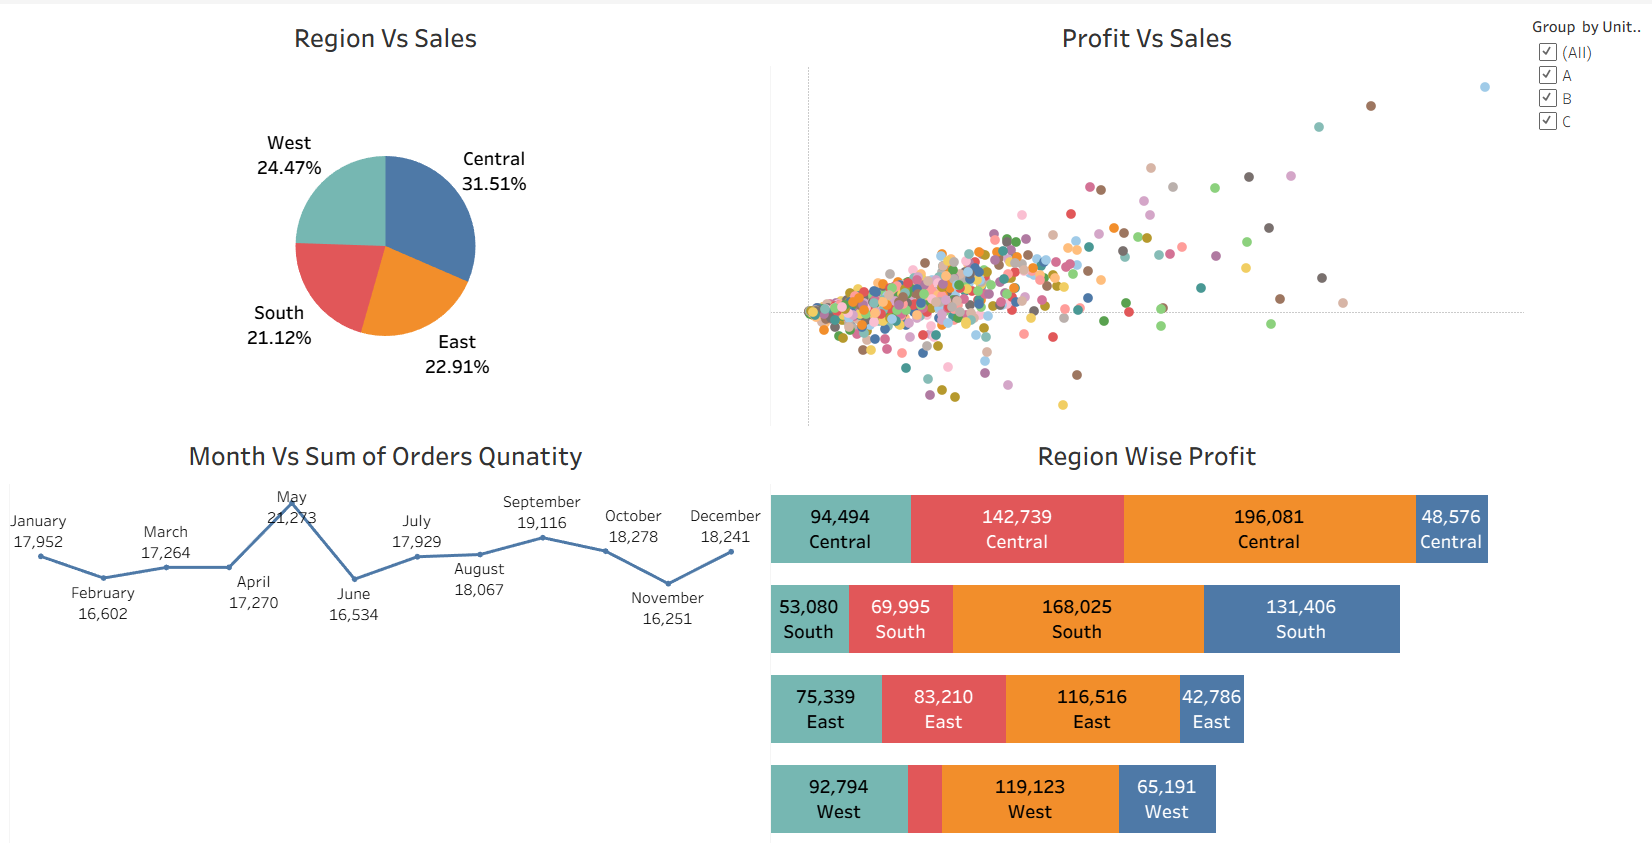

The dashboard page shown, as its layout file describes it:
{"tool":"tableau","page":{"name":"Sales and Profit Dashboard","canvas":[1000,1000],"units":"permille","ordinal":0},"visuals":[{"type":"worksheet","title":"Pie Chart","mark":"Pie","box":[4.8,9.4,459.6,490.6]},{"type":"worksheet","title":"Scatter plot","mark":"Automatic","rows":["Profit"],"cols":["Sales"],"box":[464.4,9.4,459.6,490.6]},{"type":"filter","title":"Line chart","param":"[federated.1pwiag31wkqw7w1e4bit21du64of].[none:Calculation_2178698366898176:nk]","box":[924,9.4,71.2,150.4]},{"type":"worksheet","title":"Line chart","mark":"Automatic","rows":["Order Quantity"],"cols":["Order Date"],"box":[4.8,500,459.6,490.6]},{"type":"worksheet","title":"Bar Chart","mark":"Automatic","rows":["Region"],"cols":["Profit"],"box":[464.4,500,459.6,490.6]}]}

Visuals, with their boxes on the dashboard's canvas, which has no fixed pixel size, in thousandths of its width and height (x1, y1, x2, y2). These are canvas units, not pixel positions in the 1652x847 screenshot, which may show the page scaled, cropped or inside an application window:
"Pie Chart" worksheet (Pie marks): locate(5, 9, 464, 500)
"Scatter plot" worksheet: locate(464, 9, 924, 500)
"Line chart" filter: locate(924, 9, 995, 160)
"Line chart" worksheet: locate(5, 500, 464, 991)
"Bar Chart" worksheet: locate(464, 500, 924, 991)
